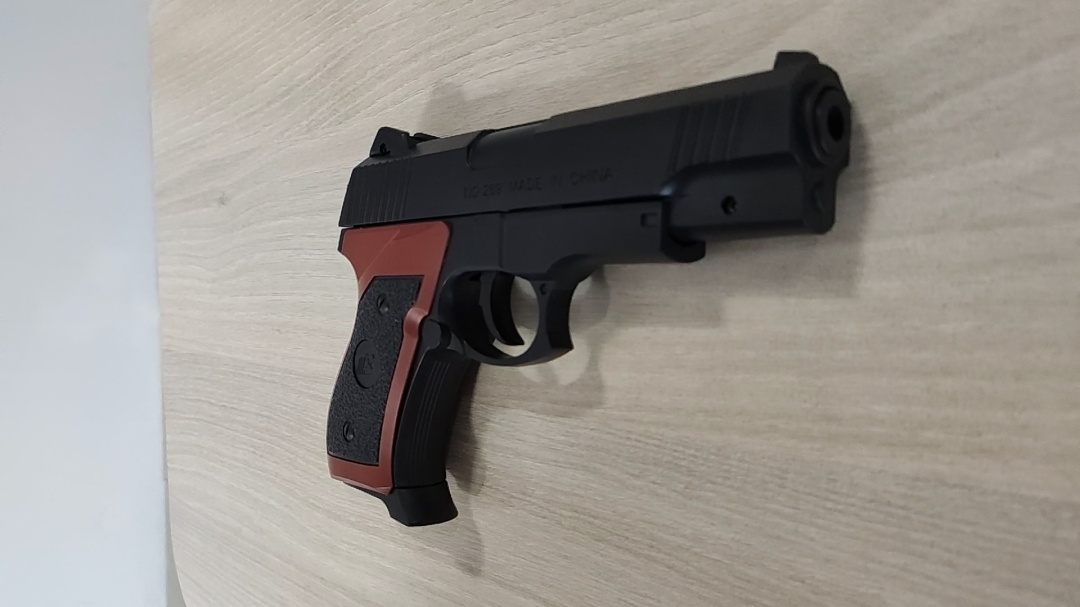gun: (324, 49, 856, 533)
